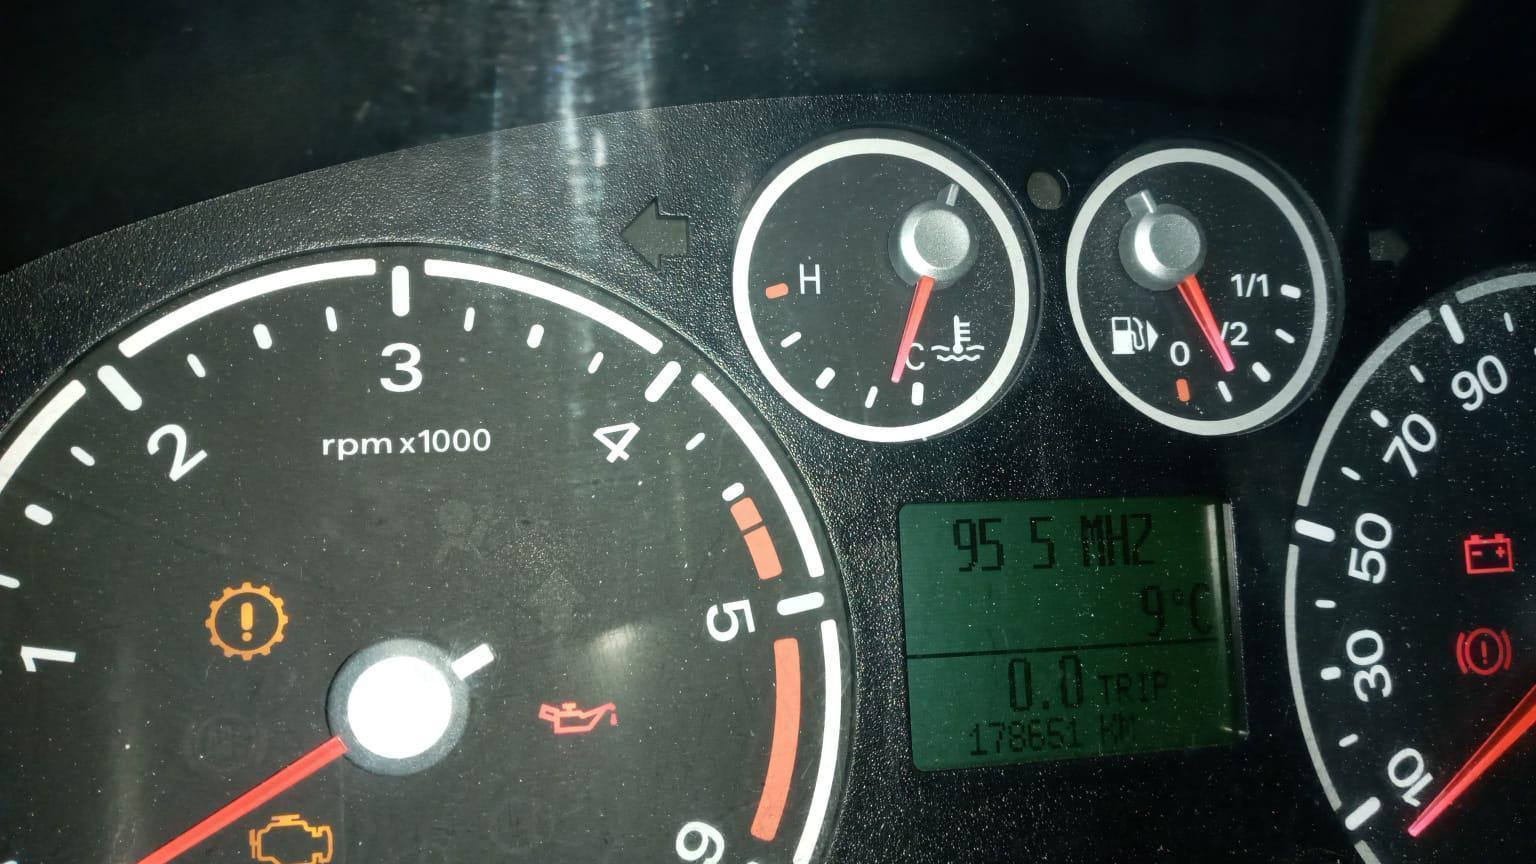,: (1040, 699, 1052, 710)
0: (1058, 653, 1084, 708), (1009, 657, 1033, 711)
1: (968, 723, 988, 755), (1065, 718, 1083, 748)
5: (1028, 514, 1055, 570), (978, 517, 1004, 572), (1047, 716, 1064, 749)
6: (1028, 719, 1045, 750)
7: (988, 721, 1005, 754)
8: (1007, 719, 1026, 752)
9: (951, 517, 978, 572), (1139, 583, 1166, 636)
X: (1105, 513, 1130, 567), (1079, 514, 1105, 567), (1130, 513, 1154, 565), (1190, 582, 1212, 634), (1098, 711, 1118, 746), (1116, 672, 1135, 705), (1118, 713, 1137, 742), (1151, 670, 1168, 700), (1097, 673, 1113, 705), (1136, 671, 1148, 702)
odometer: (895, 492, 1250, 773)
